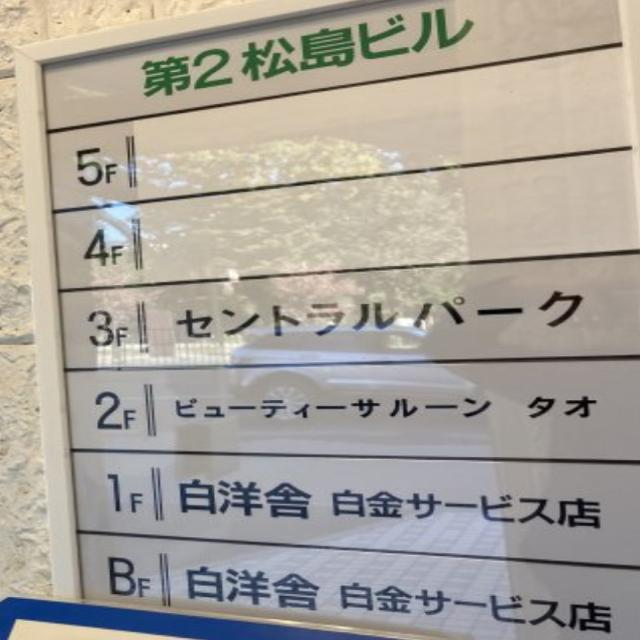building: (127, 3, 478, 112)
facility: (166, 275, 623, 355), (178, 558, 623, 637), (170, 472, 614, 544), (166, 383, 619, 430)
floor: (65, 136, 128, 202), (75, 217, 134, 281), (93, 548, 159, 602), (93, 464, 150, 523), (81, 387, 142, 442), (79, 305, 135, 356)
